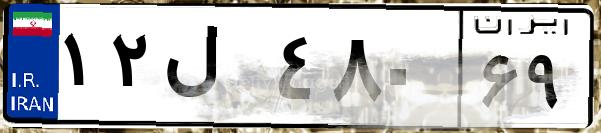0: (385, 28, 445, 110)
1: (57, 26, 110, 100)
2: (110, 28, 158, 98)
4: (270, 28, 330, 110)
6: (475, 38, 525, 113)
8: (330, 28, 385, 110)
9: (525, 38, 570, 115)
ل: (158, 20, 270, 120)
